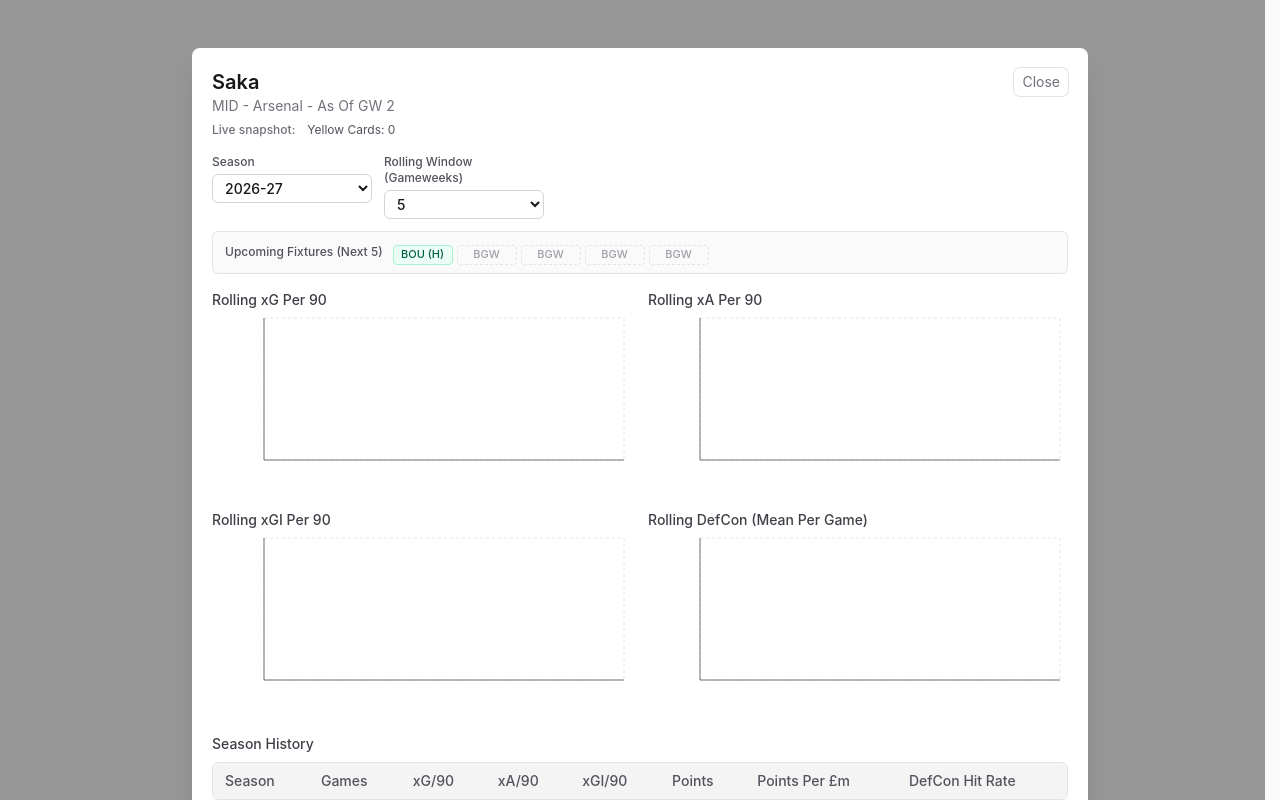
Test: uses the historical season's latest cutoff and restores the current cutoff
Select "2025-26" in the dropdown labelled "Season" at {"x": 292, "y": 188}, box 212,174 -> 372,203
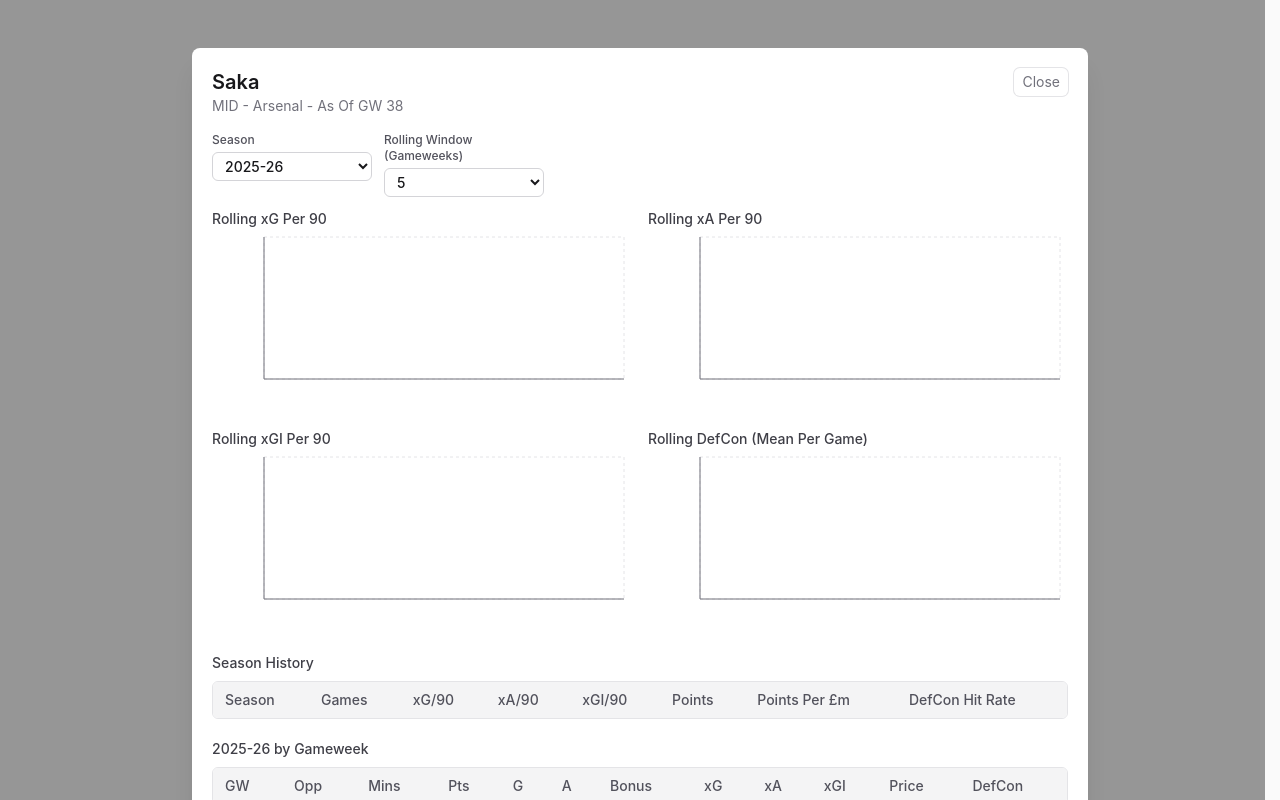
expect the text "MID - Arsenal - As Of GW 38" is shown: met, box 212,96 -> 404,116
Select "6" in the dropdown labelled "Rolling Window (Gameweeks)" at {"x": 464, "y": 182}, box 384,168 -> 544,197
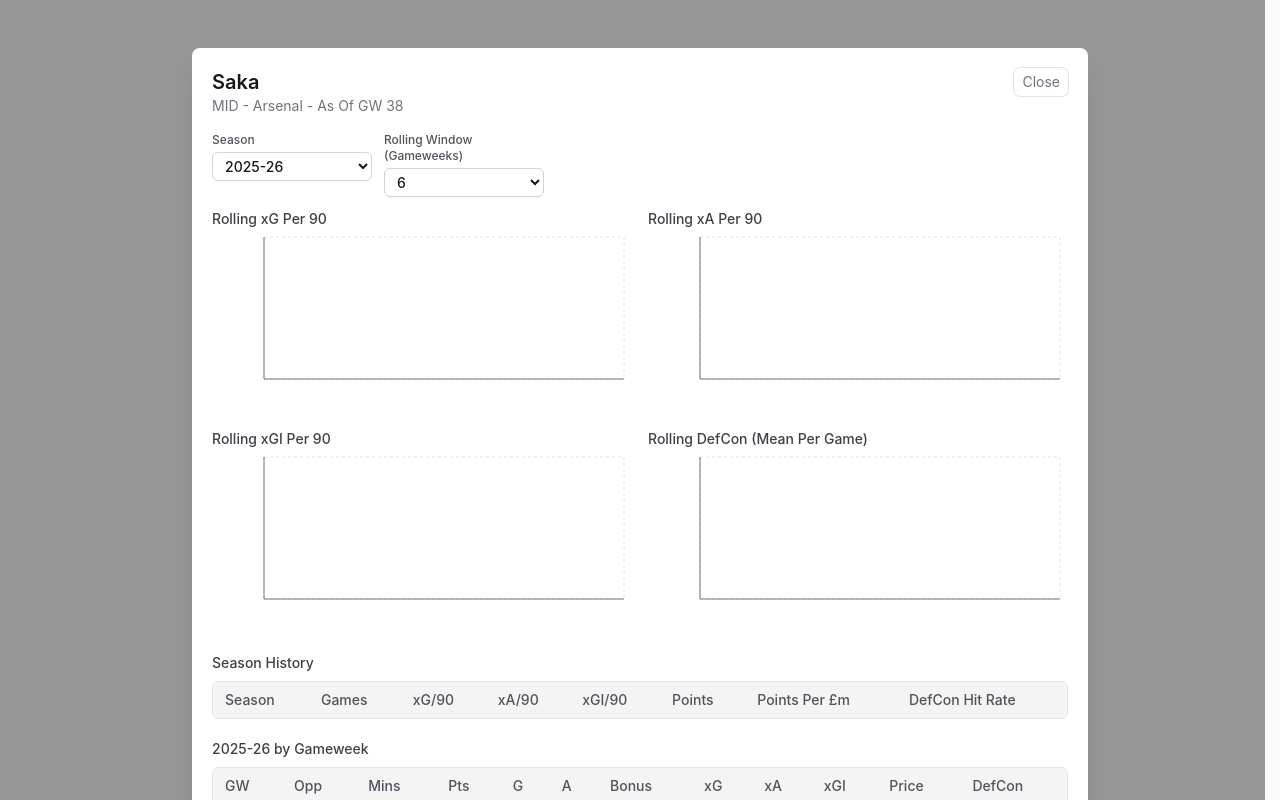
Select "2026-27" in the dropdown labelled "Season" at {"x": 292, "y": 166}, box 212,152 -> 372,181
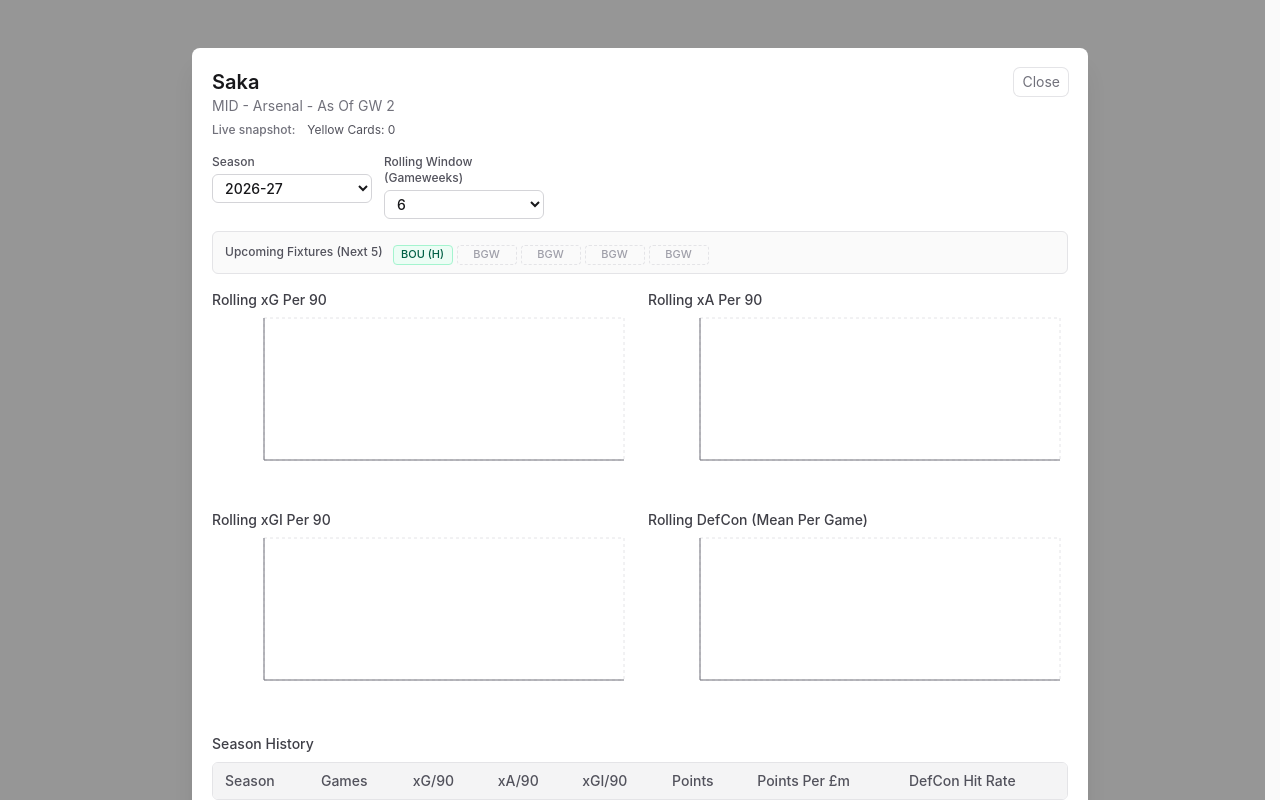
expect the text "MID - Arsenal - As Of GW 2" is shown: met, box 212,96 -> 395,116
